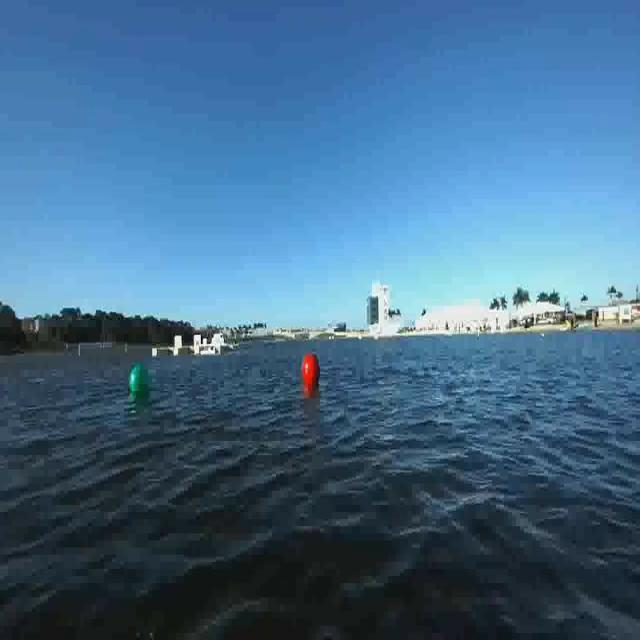green-buoy: (128, 361, 154, 401)
red-buoy: (301, 354, 317, 385)
